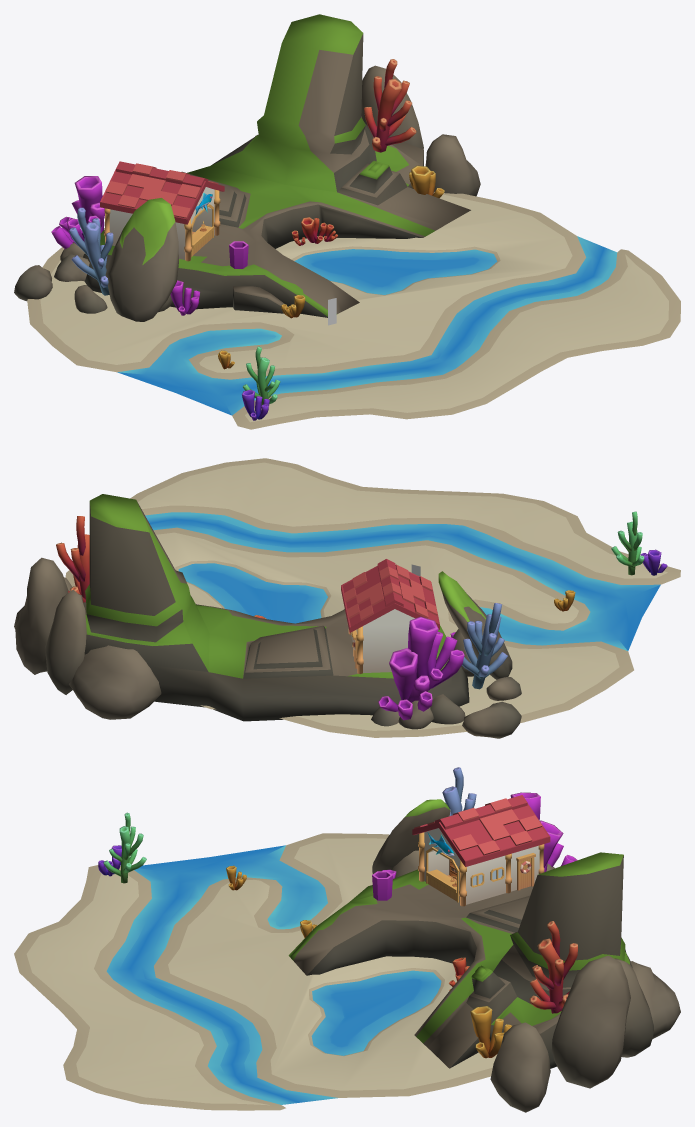
File: Coral_island.fbx
3 views of the same model, one above another, from view 1: azimuth 30°, elevation 25°; view 2: azimuth 150°, elevation 25°; view 3: azimuth 270°, elevation 25° (orthographic). The views are drawn at different scales.
Visible parts, largest first — view 1: Island_base, Island_Stone, Island_base.002, Coral_Rock.001, Plane.043, Island_base.001, Coral.008, Coral_Rock.002, Coral.005, Coral_Rock.003, Coral.006, Coral_Rock.008 (+5 smaller); view 2: Island_base, Island_Stone, Island_base.002, Plane.043, Island_base.001, Coral_Rock.005, Coral_Rock.003, Coral_Rock.004, Coral.006, Coral.007, Coral.005, Coral_Rock.001 (+7 smaller); view 3: Island_base, Island_Stone, Island_base.002, Plane.043, Coral_Rock.003, Island_base.001, Coral_Rock.002, Coral.008, Coral_Rock.001, Coral_Rock.004, Coral_Rock.005, Coral.009 (+4 smaller).
Boxes of the visible parts, x1=… form: Island_base: x1=27, y1=192, x2=680, y2=429; Island_Stone: x1=83, y1=14, x2=470, y2=317; Island_base.002: x1=117, y1=236, x2=617, y2=415; Coral_Rock.001: x1=105, y1=198, x2=178, y2=321; Plane.043: x1=100, y1=161, x2=224, y2=261; Island_base.001: x1=294, y1=249, x2=497, y2=294; Coral.008: x1=364, y1=59, x2=416, y2=152; Coral_Rock.002: x1=425, y1=134, x2=480, y2=196; Coral.005: x1=69, y1=207, x2=113, y2=295; Coral_Rock.003: x1=361, y1=65, x2=423, y2=149; Coral.006: x1=59, y1=176, x2=104, y2=241; Coral_Rock.008: x1=14, y1=265, x2=52, y2=301; Island_base: x1=65, y1=458, x2=680, y2=737; Island_Stone: x1=83, y1=494, x2=469, y2=721; Island_base.002: x1=145, y1=512, x2=660, y2=650; Plane.043: x1=341, y1=559, x2=439, y2=673; Island_base.001: x1=178, y1=563, x2=327, y2=623; Coral_Rock.005: x1=69, y1=645, x2=161, y2=719; Coral_Rock.003: x1=15, y1=557, x2=68, y2=674; Coral_Rock.004: x1=45, y1=589, x2=86, y2=694; Coral.006: x1=408, y1=616, x2=464, y2=690; Coral.007: x1=378, y1=648, x2=432, y2=720; Coral.005: x1=461, y1=603, x2=507, y2=689; Coral_Rock.001: x1=438, y1=571, x2=512, y2=679; Island_base: x1=14, y1=833, x2=497, y2=1110; Island_Stone: x1=288, y1=852, x2=632, y2=1068; Island_base.002: x1=106, y1=845, x2=337, y2=1104; Plane.043: x1=412, y1=795, x2=550, y2=906; Coral_Rock.003: x1=551, y1=955, x2=630, y2=1088; Island_base.001: x1=311, y1=970, x2=441, y2=1055; Coral_Rock.002: x1=490, y1=1022, x2=550, y2=1112; Coral.008: x1=529, y1=921, x2=577, y2=1013; Coral_Rock.001: x1=372, y1=799, x2=450, y2=874; Coral_Rock.004: x1=614, y1=958, x2=653, y2=1057; Coral_Rock.005: x1=630, y1=961, x2=680, y2=1038; Coral.009: x1=470, y1=1006, x2=511, y2=1058.
Size of the model in its own units: 6235 by 2057 by 6338.
